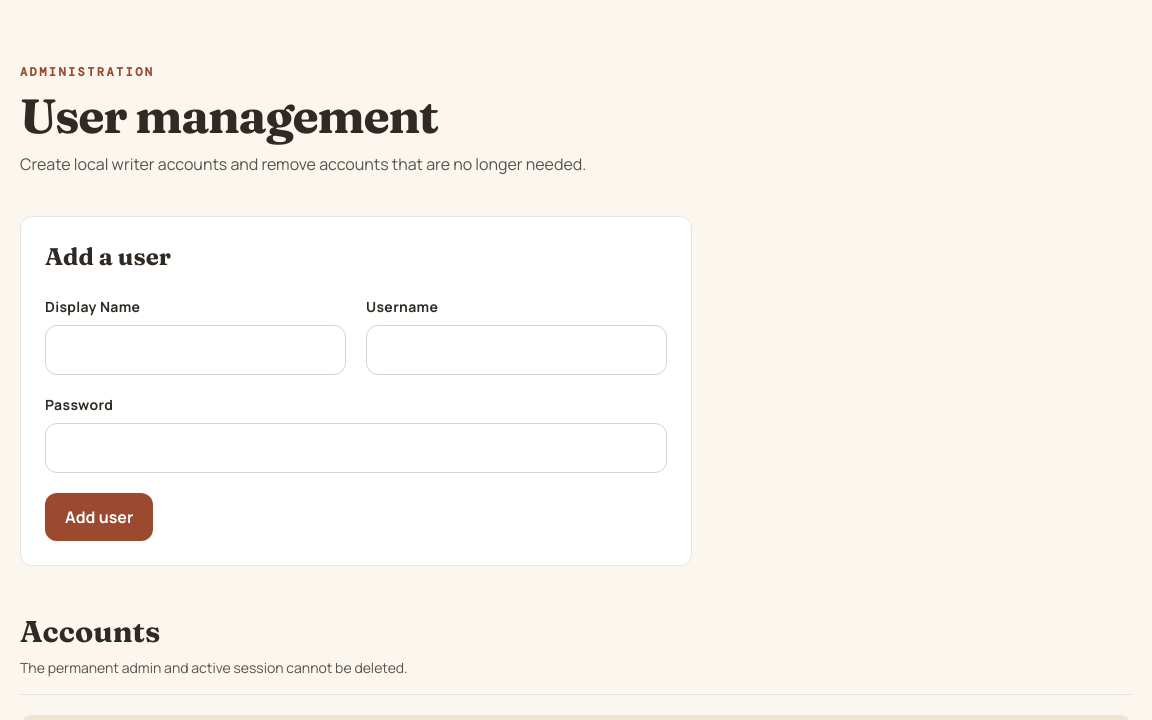
Test: administration › shows an error and keeps users and form state unchanged when saving a new user fails
Type "Cannot Save" into the field labelled "Display Name" at {"x": 196, "y": 350}, box [45,325,346,375]
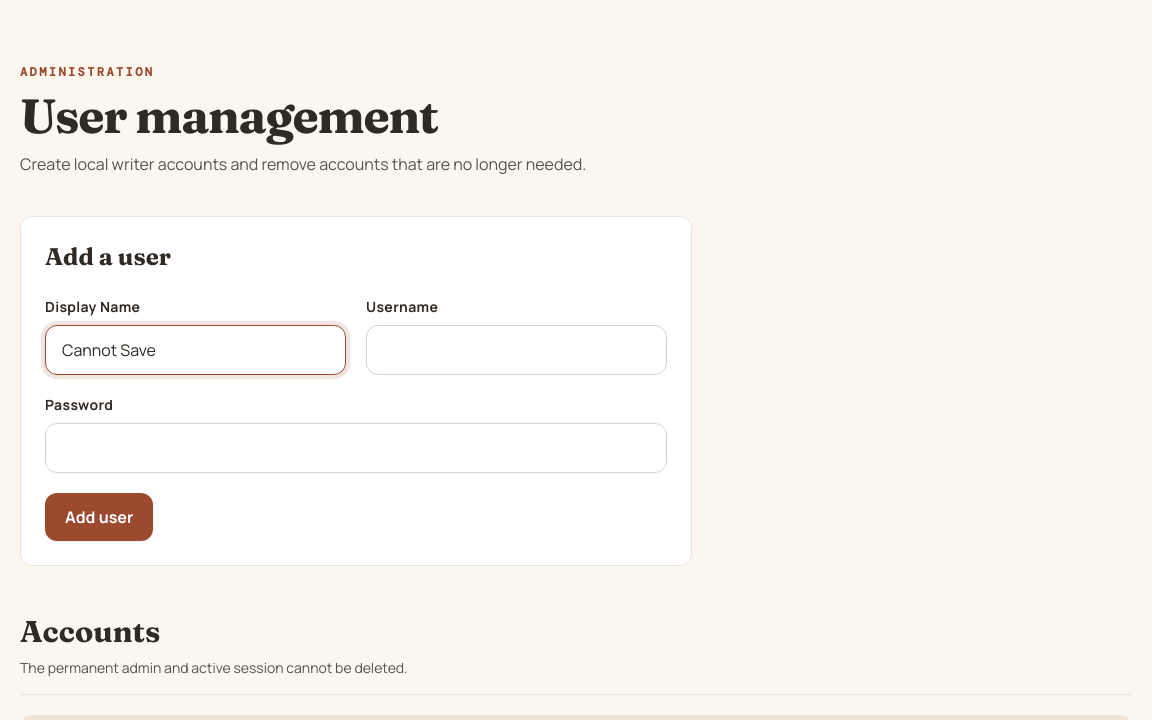
Type "cannot-save" into the field labelled "Username" at {"x": 516, "y": 350}, box [366,325,667,375]
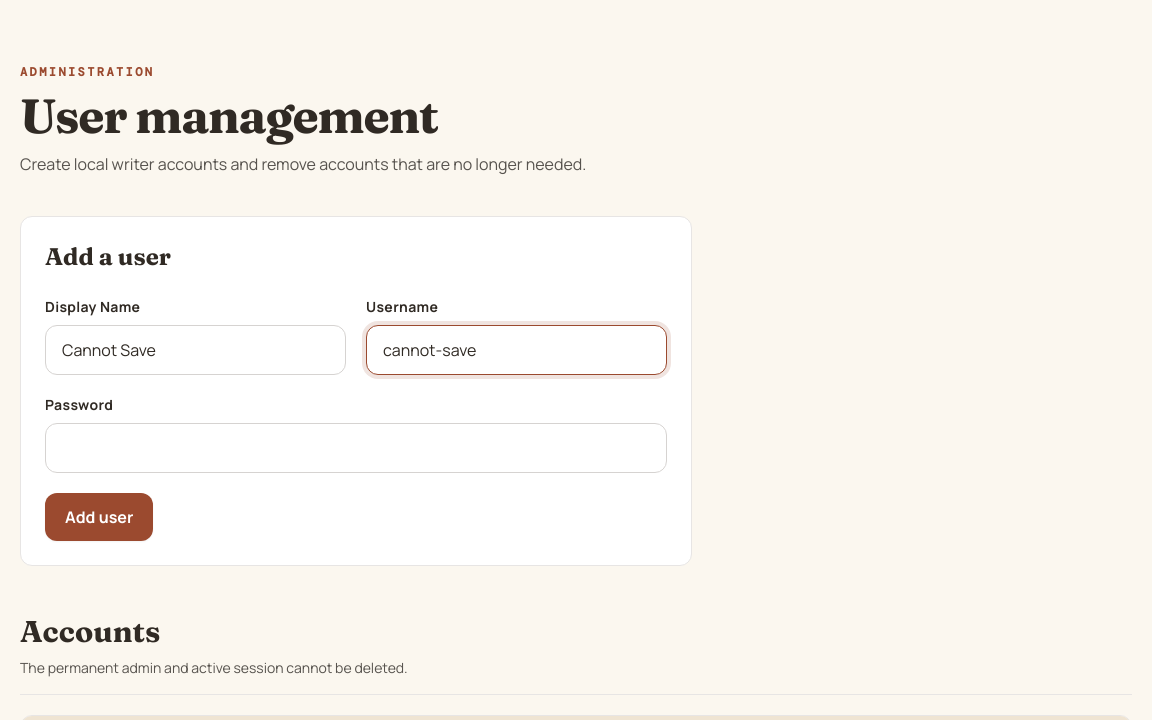
Type "secret" into the password field labelled "Password" at {"x": 356, "y": 448}, box [45,423,667,473]
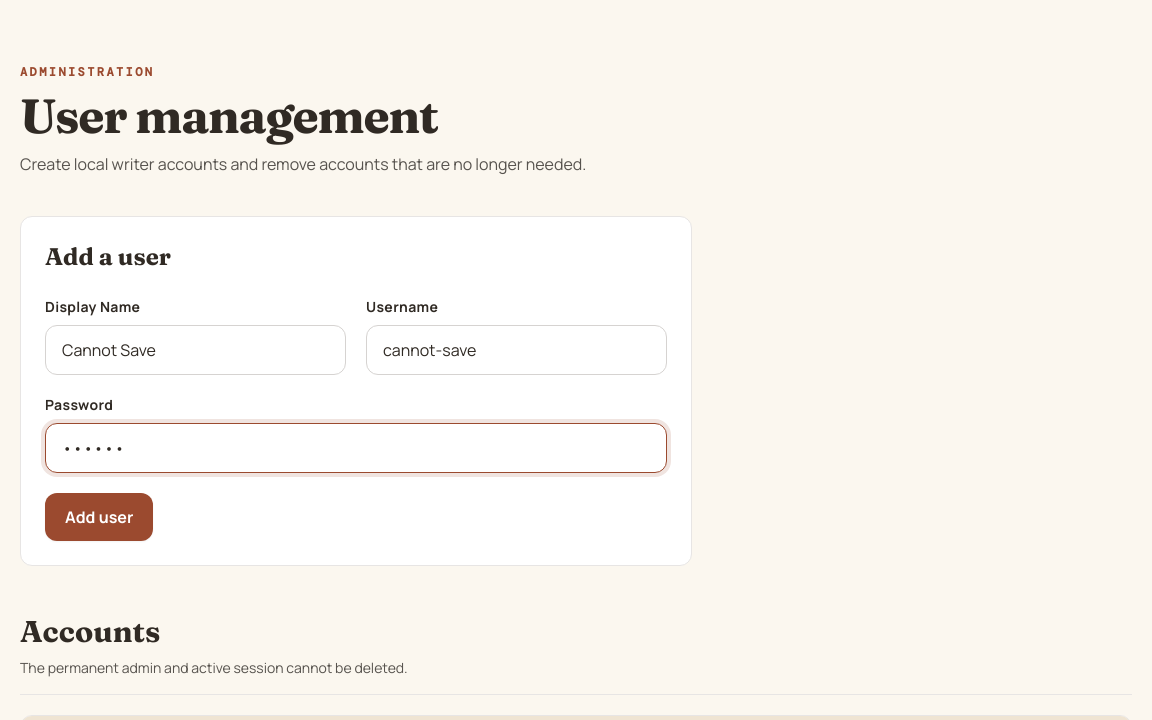
Click the button "Add user" at {"x": 99, "y": 517}, box [45,493,153,541]
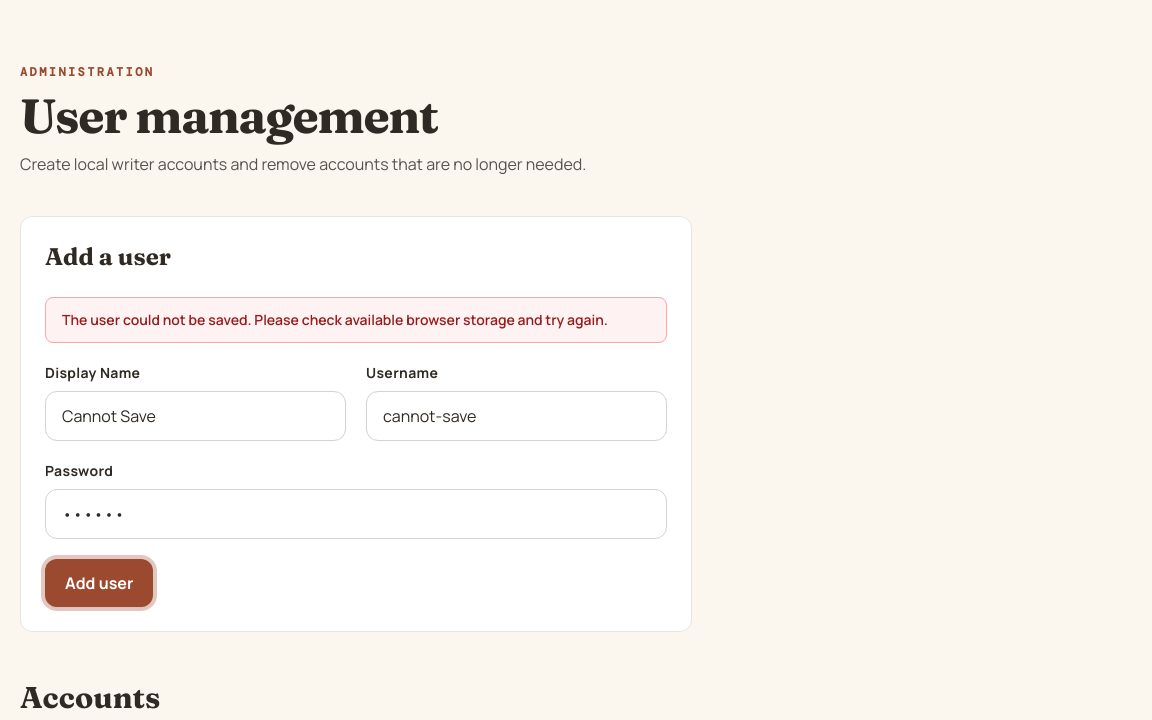
Expected: the message shows "could not be saved", [62,310,608,329]
